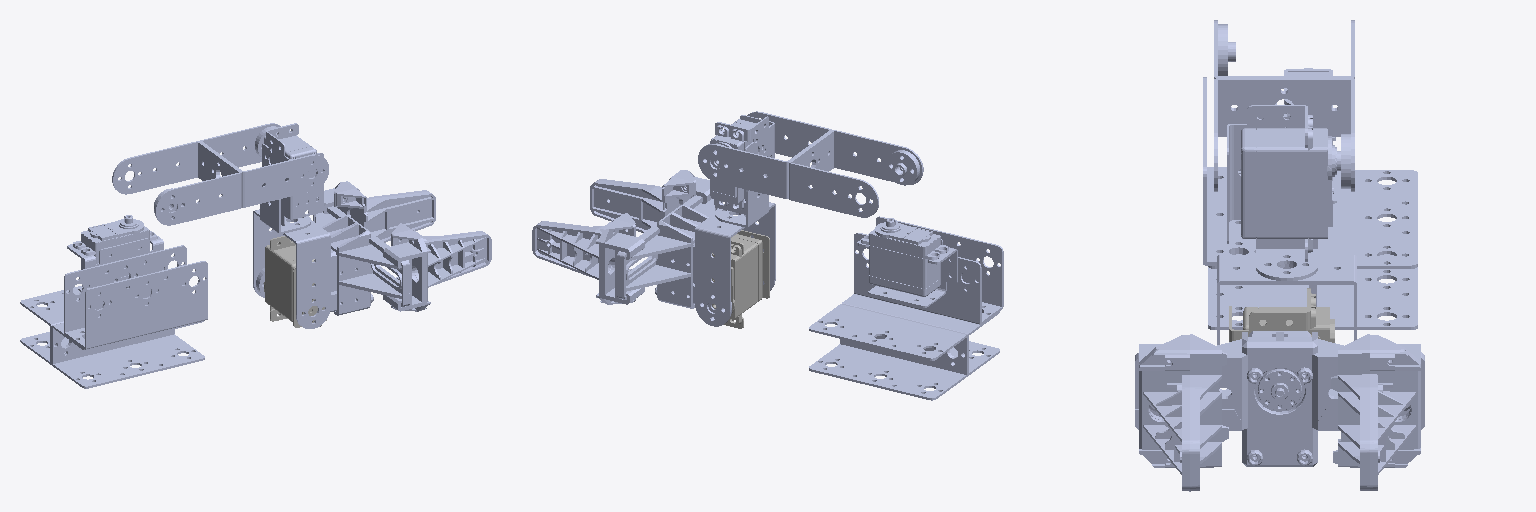
URDF robot description (robot_arm):
<?xml version="1.0" encoding="utf-8"?>
<!-- This URDF was automatically created by SolidWorks to URDF Exporter! Originally created by [author] ([email redacted]) 
     Commit Version: 1.6.0-4-g7f85cfe  Build Version: 1.6.7995.38578
     For more information, please see http://wiki.ros.org/sw_urdf_exporter -->
<robot
  name="robot_arm">
  <link
    name="base_link">
    <inertial>
      <origin
        xyz="-0.010426 -0.0048537 0.043274"
        rpy="0 0 0" />
      <mass
        value="0.072556" />
      <inertia
        ixx="1.8443E-05"
        ixy="6.7354E-12"
        ixz="-2.396E-08"
        iyy="4.189E-05"
        iyz="6.4075E-08"
        izz="3.9774E-05" />
    </inertial>
    <visual>
      <origin
        xyz="0 0 0"
        rpy="0 0 0" />
      <geometry>
        <mesh
          filename="package://robot_arm/meshes/base_link.STL" />
      </geometry>
      <material
        name="">
        <color
          rgba="0.79216 0.81961 0.93333 1" />
      </material>
    </visual>
    <collision>
      <origin
        xyz="0 0 0"
        rpy="0 0 0" />
      <geometry>
        <mesh
          filename="package://robot_arm/meshes/base_link.STL" />
      </geometry>
    </collision>
  </link>
  <link
    name="link1">
    <inertial>
      <origin
        xyz="0.042062 -0.0059288 -0.025684"
        rpy="0 0 0" />
      <mass
        value="0.20718" />
      <inertia
        ixx="0.00037471"
        ixy="2.0599E-05"
        ixz="-4.7344E-06"
        iyy="0.0010314"
        iyz="1.2339E-05"
        izz="0.0007805" />
    </inertial>
    <visual>
      <origin
        xyz="0 0 0"
        rpy="0 0 0" />
      <geometry>
        <mesh
          filename="package://robot_arm/meshes/link1.STL" />
      </geometry>
      <material
        name="">
        <color
          rgba="0.79216 0.81961 0.93333 1" />
      </material>
    </visual>
    <collision>
      <origin
        xyz="0 0 0"
        rpy="0 0 0" />
      <geometry>
        <mesh
          filename="package://robot_arm/meshes/link1.STL" />
      </geometry>
    </collision>
  </link>
  <joint
    name="joint1"
    type="revolute">
    <origin
      xyz="0 0 0.09255"
      rpy="0 0 0" />
    <parent
      link="base_link" />
    <child
      link="link1" />
    <axis
      xyz="0 0 1" />
    <limit
      lower="0"
      upper="3.1416"
      effort="0"
      velocity="0" />
  </joint>
  <link
    name="link2">
    <inertial>
      <origin
        xyz="0.0515 -2.1372E-15 -0.0265"
        rpy="0 0 0" />
      <mass
        value="0.015058" />
      <inertia
        ixx="8.0384E-06"
        ixy="-1.6976E-20"
        ixz="-2.0201E-22"
        iyy="1.2213E-05"
        iyz="-3.7422E-22"
        izz="5.6572E-06" />
    </inertial>
    <visual>
      <origin
        xyz="0 0 0"
        rpy="0 0 0" />
      <geometry>
        <mesh
          filename="package://robot_arm/meshes/link2.STL" />
      </geometry>
      <material
        name="">
        <color
          rgba="0.79216 0.81961 0.93333 1" />
      </material>
    </visual>
    <collision>
      <origin
        xyz="0 0 0"
        rpy="0 0 0" />
      <geometry>
        <mesh
          filename="package://robot_arm/meshes/link2.STL" />
      </geometry>
    </collision>
  </link>
  <joint
    name="joint2"
    type="revolute">
    <origin
      xyz="0.0108 -0.03605 0.019"
      rpy="1.5708 0 0" />
    <parent
      link="link1" />
    <child
      link="link2" />
    <axis
      xyz="0 0 1" />
    <limit
      lower="0"
      upper="3.1416"
      effort="0"
      velocity="0" />
  </joint>
  <link
    name="link3">
    <inertial>
      <origin
        xyz="0.022728 -0.00067956 0.02531"
        rpy="0 0 0" />
      <mass
        value="0.041173" />
      <inertia
        ixx="8.8942E-06"
        ixy="-9.848E-08"
        ixz="-2.396E-08"
        iyy="1.4512E-05"
        iyz="-6.4075E-08"
        izz="8.7539E-06" />
    </inertial>
    <visual>
      <origin
        xyz="0 0 0"
        rpy="0 0 0" />
      <geometry>
        <mesh
          filename="package://robot_arm/meshes/link3.STL" />
      </geometry>
      <material
        name="">
        <color
          rgba="0.79216 0.81961 0.93333 1" />
      </material>
    </visual>
    <collision>
      <origin
        xyz="0 0 0"
        rpy="0 0 0" />
      <geometry>
        <mesh
          filename="package://robot_arm/meshes/link3.STL" />
      </geometry>
    </collision>
  </link>
  <joint
    name="joint3"
    type="revolute">
    <origin
      xyz="0.103 0 -0.053"
      rpy="0 0 -1.5708" />
    <parent
      link="link2" />
    <child
      link="link3" />
    <axis
      xyz="0 0 1" />
    <limit
      lower="0"
      upper="3.1416"
      effort="0"
      velocity="0" />
  </joint>
  <link
    name="link4">
    <inertial>
      <origin
        xyz="-0.000683553147996091 0.00978890206482489 -0.0263024391761717"
        rpy="0 0 0" />
      <mass
        value="0.0316676572660873" />
      <inertia
        ixx="8.06071840594677E-06"
        ixy="-6.73538676296958E-12"
        ixz="6.40753661397874E-08"
        iyy="4.64305606634161E-06"
        iyz="2.39595473238727E-08"
        izz="5.55403753556937E-06" />
    </inertial>
    <visual>
      <origin
        xyz="0 0 0"
        rpy="0 0 0" />
      <geometry>
        <mesh
          filename="package://robot_arm/meshes/link4.STL" />
      </geometry>
      <material
        name="">
        <color
          rgba="0.752941176470588 0.752941176470588 0.752941176470588 1" />
      </material>
    </visual>
    <collision>
      <origin
        xyz="0 0 0"
        rpy="0 0 0" />
      <geometry>
        <mesh
          filename="package://robot_arm/meshes/link4.STL" />
      </geometry>
    </collision>
  </link>
  <joint
    name="joint4"
    type="revolute">
    <origin
      xyz="0.0978 0.0015 -0.00095"
      rpy="3.1416 0 -1.5708" />
    <parent
      link="link3" />
    <child
      link="link4" />
    <axis
      xyz="0 0 1" />
    <limit
      lower="0"
      upper="3.1416"
      effort="0"
      velocity="0" />
  </joint>
  <link
    name="left_finger">
    <inertial>
      <origin
        xyz="0.004363 0.0042293 -0.01575"
        rpy="0 0 0" />
      <mass
        value="0.018457" />
      <inertia
        ixx="4.1532E-06"
        ixy="1.1861E-07"
        ixz="-2.4731E-10"
        iyy="7.4076E-06"
        iyz="-1.4694E-10"
        izz="4.6333E-06" />
    </inertial>
    <visual>
      <origin
        xyz="0 0 0"
        rpy="0 0 0" />
      <geometry>
        <mesh
          filename="package://robot_arm/meshes/left_finger.STL" />
      </geometry>
      <material
        name="">
        <color
          rgba="0.79216 0.81961 0.93333 1" />
      </material>
    </visual>
    <collision>
      <origin
        xyz="0 0 0"
        rpy="0 0 0" />
      <geometry>
        <mesh
          filename="package://robot_arm/meshes/left_finger.STL" />
      </geometry>
    </collision>
  </link>
  <joint
    name="grip_joint1"
    type="prismatic">
    <origin
      xyz="-0.0674400000000006 0.0362283812510216 0.00654365287007973"
      rpy="1.5707963267949 0 3.14159265358979" />
    <parent
      link="link4" />
    <child
      link="left_finger" />
    <axis
      xyz="0 -1 0" />
    <limit
      lower="0"
      upper="0"
      effort="0"
      velocity="0" />
  </joint>
  <link
    name="right_finger">
    <inertial>
      <origin
        xyz="0.004363 -0.0042293 -0.01575"
        rpy="0 0 0" />
      <mass
        value="0.018457" />
      <inertia
        ixx="4.1532E-06"
        ixy="-1.1861E-07"
        ixz="2.4731E-10"
        iyy="7.4076E-06"
        iyz="-1.4694E-10"
        izz="4.6333E-06" />
    </inertial>
    <visual>
      <origin
        xyz="0 0 0"
        rpy="0 0 0" />
      <geometry>
        <mesh
          filename="package://robot_arm/meshes/right_finger.STL" />
      </geometry>
      <material
        name="">
        <color
          rgba="0.79216 0.81961 0.93333 1" />
      </material>
    </visual>
    <collision>
      <origin
        xyz="0 0 0"
        rpy="0 0 0" />
      <geometry>
        <mesh
          filename="package://robot_arm/meshes/right_finger.STL" />
      </geometry>
    </collision>
  </link>
  <joint
    name="grip_joint2"
    type="prismatic">
    <origin
      xyz="-0.0674400000000011 0.0361383812510217 -0.065096347129932"
      rpy="1.5707963267949 0 3.14159265358978" />
    <parent
      link="link4" />
    <child
      link="right_finger" />
    <axis
      xyz="0 -1 0" />
    <limit
      lower="0"
      upper="0"
      effort="0"
      velocity="0" />
  </joint>
  <link
    name="end_effector">
    <inertial>
      <origin
        xyz="-0.016482 -1.618E-06 -0.0064867"
        rpy="0 0 0" />
      <mass
        value="0.057795" />
      <inertia
        ixx="3.0553E-05"
        ixy="2.5795E-13"
        ixz="-4.6718E-07"
        iyy="1.402E-05"
        iyz="-2.5404E-08"
        izz="2.4228E-05" />
    </inertial>
    <visual>
      <origin
        xyz="0 0 0"
        rpy="0 0 0" />
      <geometry>
        <mesh
          filename="package://robot_arm/meshes/end_effector.STL" />
      </geometry>
      <material
        name="">
        <color
          rgba="0.79216 0.81961 0.93333 1" />
      </material>
    </visual>
    <collision>
      <origin
        xyz="0 0 0"
        rpy="0 0 0" />
      <geometry>
        <mesh
          filename="package://robot_arm/meshes/end_effector.STL" />
      </geometry>
    </collision>
  </link>
  <joint
    name="end-joint"
    type="fixed">
    <origin
      xyz="-0.052860000000001 0.0192183812510215 -0.0292763471299173"
      rpy="1.5707963267949 0 -3.14159265358979" />
    <parent
      link="link4" />
    <child
      link="end_effector" />
    <axis
      xyz="0 0 0" />
  </joint>
</robot>

--- What the picture shows (computed from the rendered views, not written in the file) ---
The picture shows the robot from 3 angles, left to right: view 1: azimuth 30°, elevation 25°; view 2: azimuth 150°, elevation 25°; view 3: azimuth 270°, elevation 25°; orthographic projection.
Robot: robot_arm — 8 links, 7 joints (4 revolute, 2 prismatic, 1 fixed); root link base_link; default pose: every joint at zero.
Visible links, largest first — view 1: base_link, link2, link3, end_effector, right_finger, left_finger, link4; view 2: base_link, link2, link3, end_effector, left_finger, right_finger, link4; view 3: base_link, link3, end_effector, right_finger, left_finger, link2, link4.
Link boxes in pixels (x1,y1,x2,y2): base_link: [20, 215, 207, 388]; link2: [112, 123, 328, 225]; link3: [253, 123, 330, 328]; end_effector: [313, 206, 409, 315]; right_finger: [383, 223, 491, 311]; left_finger: [317, 181, 435, 242]; link4: [264, 236, 326, 327]; base_link: [809, 216, 1003, 400]; link2: [698, 111, 923, 217]; link3: [695, 115, 775, 326]; end_effector: [617, 195, 717, 308]; left_finger: [532, 213, 644, 304]; right_finger: [590, 170, 711, 232]; link4: [712, 230, 769, 328]; base_link: [1203, 68, 1417, 329]; link3: [1217, 105, 1356, 388]; end_effector: [1135, 331, 1424, 466]; right_finger: [1139, 334, 1228, 491]; left_finger: [1331, 334, 1420, 490]; link2: [1214, 20, 1354, 191]; link4: [1229, 288, 1334, 342].
Bounding box of the posed robot: 0.2943 × 0.1157 × 0.1358 m (x, y, z).
7 mesh visuals loaded from 8 distinct referenced files (7 binary STL); not drawn: 1 (reference not matched to a file when rendering).